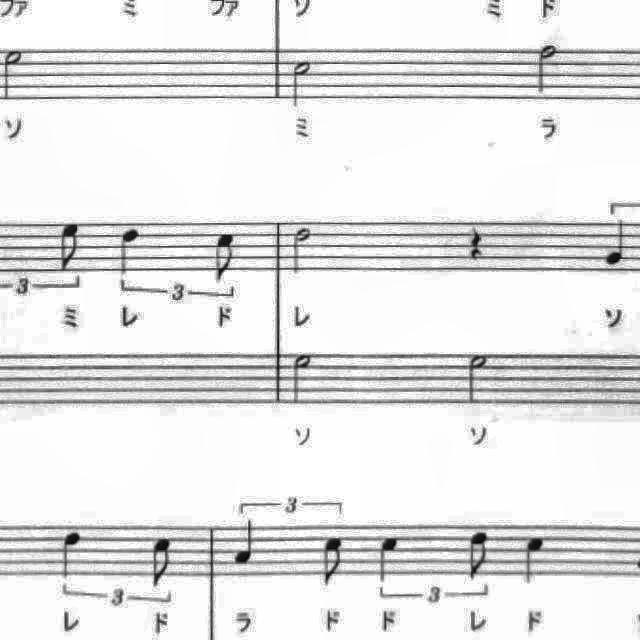Eighth-note: (462, 525, 498, 595), (143, 532, 181, 592), (314, 532, 350, 594), (208, 226, 245, 286), (54, 217, 88, 275)
Half-note: (528, 36, 564, 102), (460, 348, 498, 410), (286, 348, 318, 412), (286, 54, 318, 114), (0, 46, 28, 106), (286, 222, 316, 278)
Quarter-note: (600, 214, 640, 272), (516, 528, 552, 592), (56, 526, 92, 586), (372, 529, 406, 587), (114, 223, 148, 280), (229, 514, 263, 570)
Quarter-rest: (460, 218, 492, 266)
